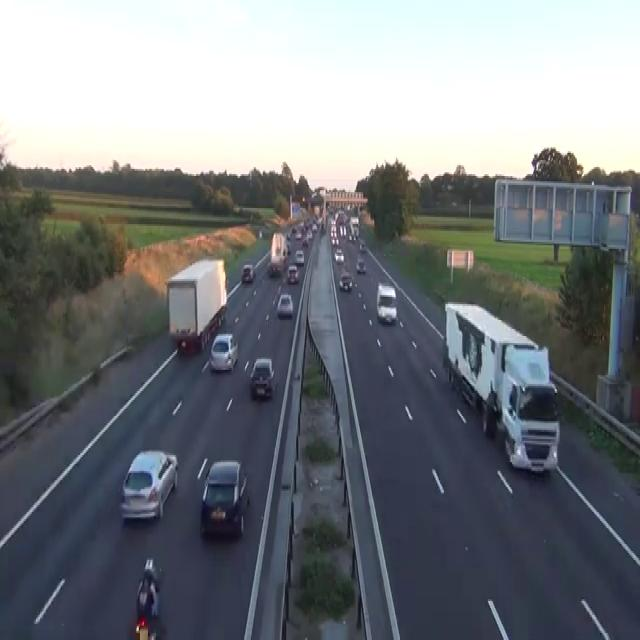Car: (119, 448, 178, 521), (200, 458, 249, 538), (136, 556, 160, 618), (209, 332, 238, 372), (249, 358, 274, 398), (376, 282, 397, 324), (134, 617, 161, 638), (276, 292, 293, 318), (241, 263, 254, 283), (287, 263, 299, 283), (339, 272, 352, 290), (267, 260, 281, 276), (355, 256, 366, 272), (334, 247, 344, 263), (295, 249, 304, 263), (350, 215, 358, 228), (358, 238, 365, 251), (267, 262, 273, 276), (331, 235, 339, 245), (347, 231, 354, 242), (233, 204, 240, 213), (301, 237, 308, 246), (311, 222, 317, 231), (295, 231, 301, 240), (286, 242, 291, 252), (286, 231, 291, 240), (258, 230, 262, 238), (451, 201, 457, 206)
Truck: (443, 300, 540, 438), (495, 343, 560, 475), (166, 256, 227, 354), (269, 231, 288, 274)
